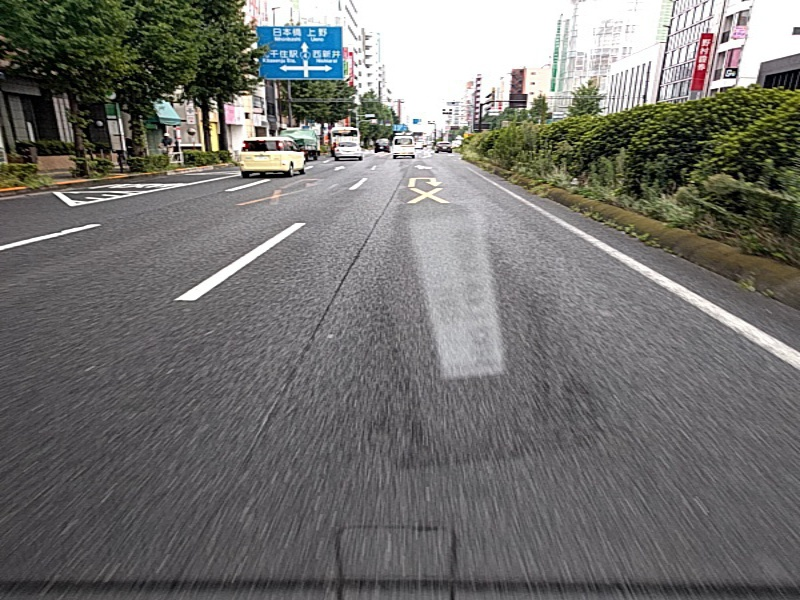long_crack: (273, 208, 397, 403)
